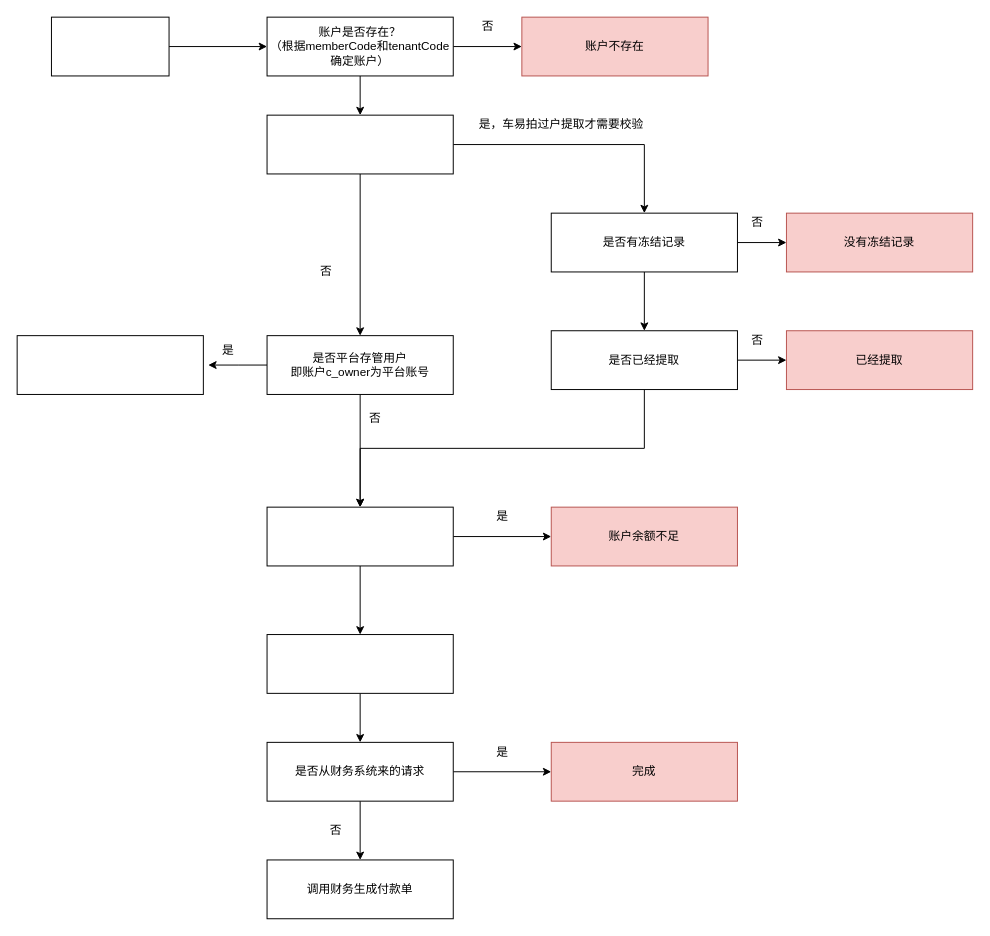
The diagram is 990 pixels wide and 936 high, and some of its shapes have lost their labels. The shapes that lost their labels are listed below. From the top down, each one's centre as x and y in pixels, then its label:
At (109,46): "保证金提取".
At (359,144): "提取是否需要校验".
At (109,364): "平台存管用户不能线下提取".
At (359,536): "要冻结金额>可用余额".
At (359,663): "新建提取单（待付款） 减少账户的总额和可用金额".
